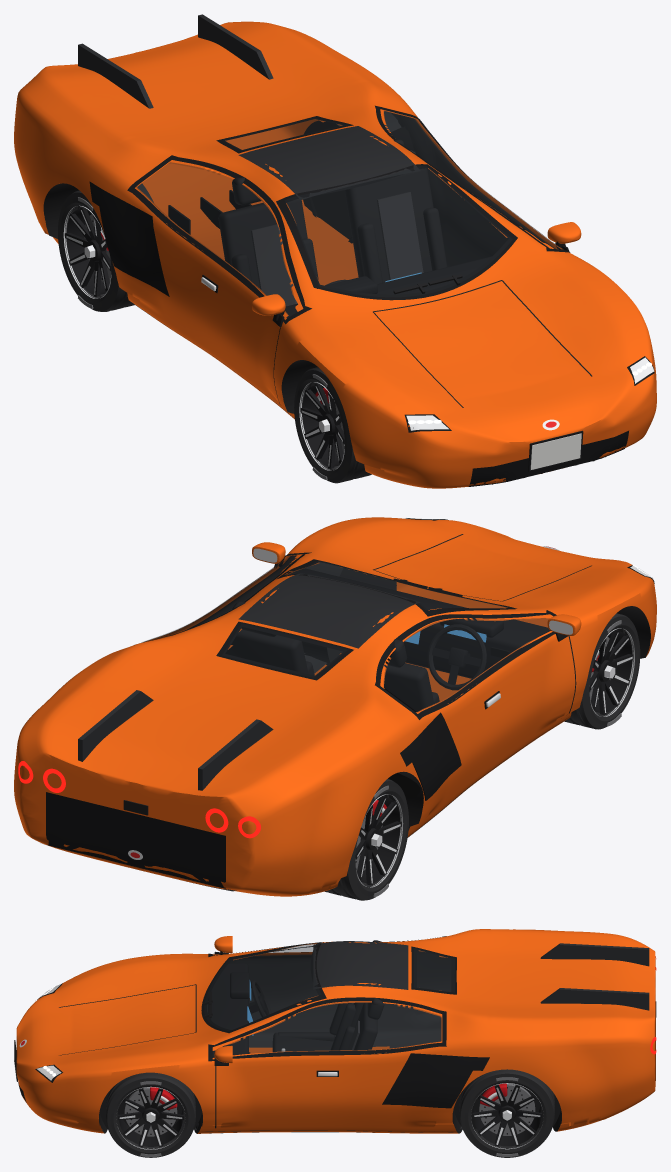
File: jesko.glb
3 views of the same model, one above another, from view 1: azimuth 30°, elevation 25°; view 2: azimuth 150°, elevation 25°; view 3: azimuth 270°, elevation 25° (orthographic). The views are drawn at different scales.
Parts seen in each view (by area): view 1: Body, Wheel_RR, Wheel_FR; view 2: Body, Wheel_RR, Wheel_FR; view 3: Body, Wheel_RL, Wheel_FL.
Boxes of the visible parts, <box> form: Body: <box>14,14,656,488</box>; Wheel_RR: <box>58,190,134,311</box>; Wheel_FR: <box>294,367,371,483</box>; Body: <box>14,517,656,896</box>; Wheel_RR: <box>325,779,408,900</box>; Wheel_FR: <box>564,613,640,729</box>; Body: <box>14,929,656,1133</box>; Wheel_RL: <box>459,1069,554,1157</box>; Wheel_FL: <box>106,1072,195,1157</box>.
Bounding box in the file's own units: 2.16 × 1.21 × 4.87.
